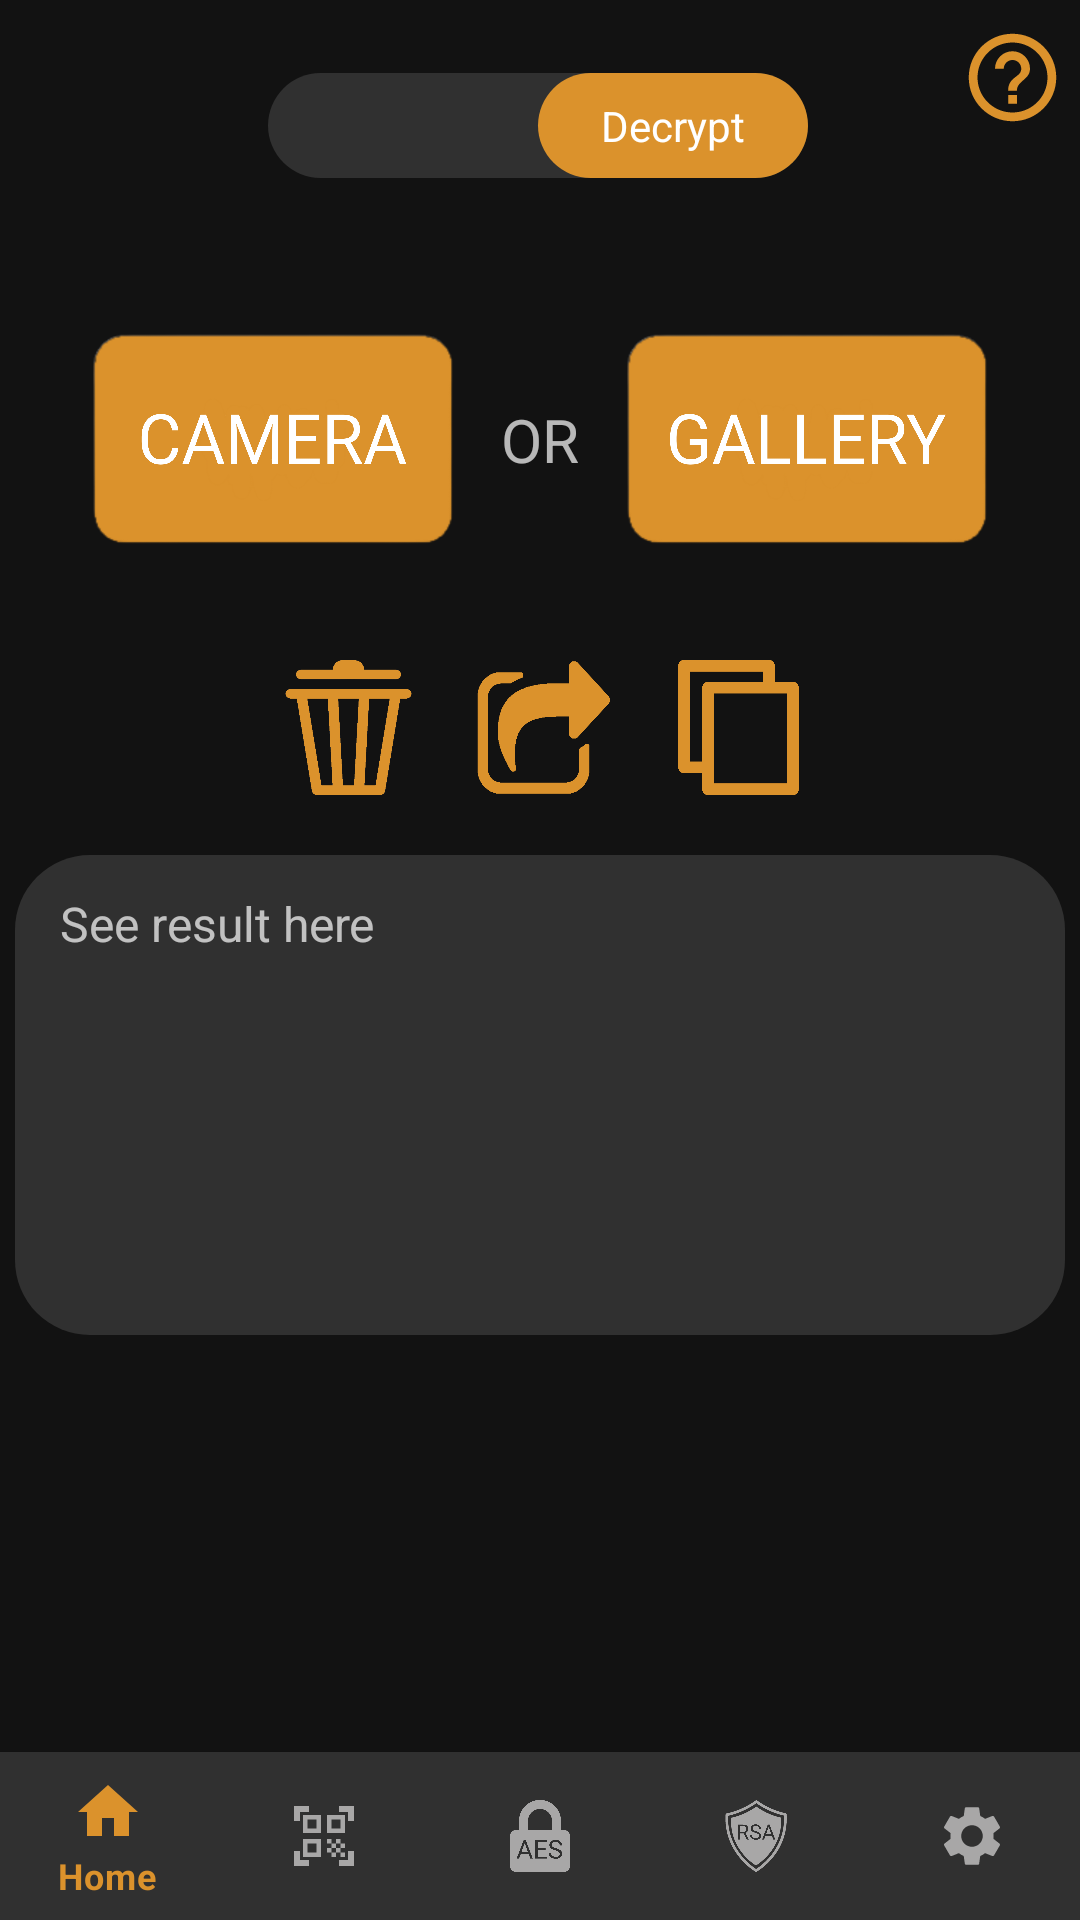

Icon bounding boxes for this 1080px x 1920px phone screenshot, format (x1, y1, x2, y2):
help menu: (968, 33, 1057, 122)
